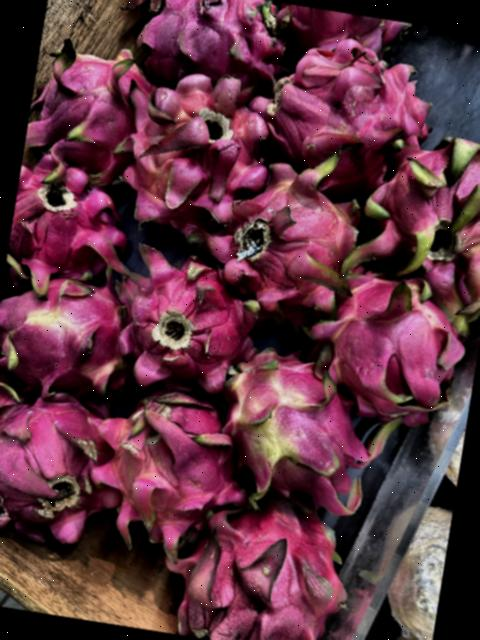buah-naga-belum-matang: (202, 342, 409, 530), (0, 267, 143, 403)
buah-naga-matang: (252, 25, 444, 202), (105, 61, 284, 245), (170, 475, 359, 640), (79, 378, 256, 550), (299, 256, 472, 428), (99, 230, 272, 397), (208, 148, 368, 320), (356, 122, 480, 321), (0, 383, 134, 548), (22, 24, 158, 184), (4, 149, 142, 296), (133, 0, 294, 101), (276, 2, 412, 54)
